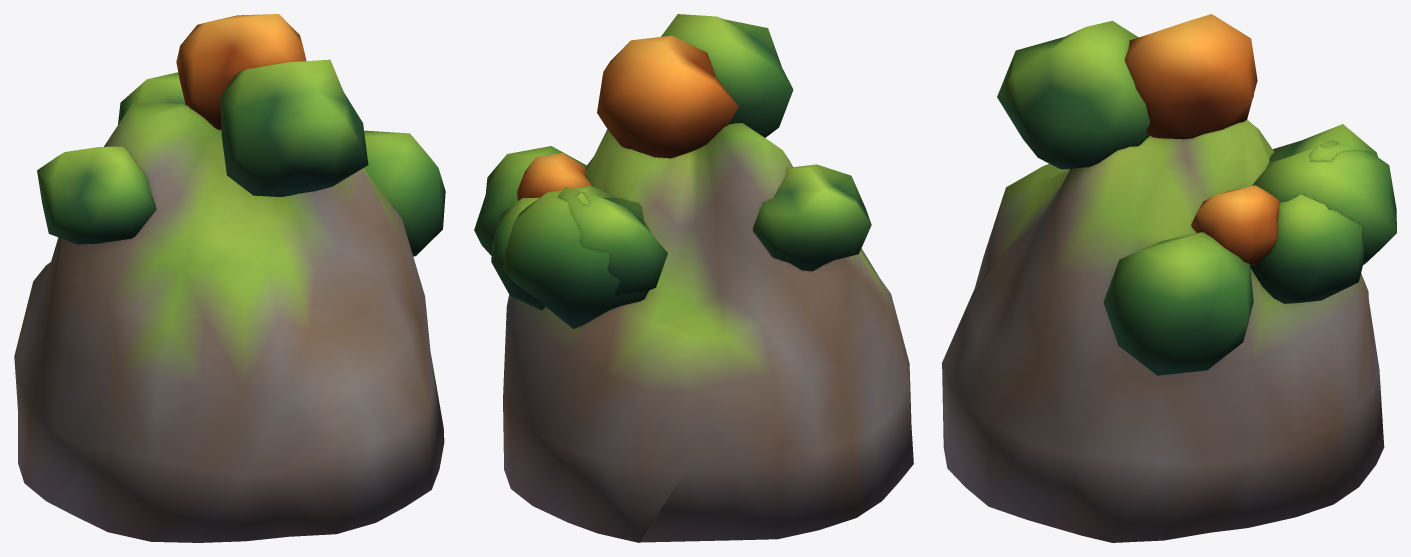
The model's file is mountain_a.glb.
3 renders of one model, left to right at view 1: azimuth 30°, elevation 25°; view 2: azimuth 150°, elevation 25°; view 3: azimuth 270°, elevation 25°, orthographic. The views are drawn at different scales.
Parts seen in each view (by area): view 1: mountain_a; view 2: mountain_a; view 3: mountain_a.
Part boxes in pixels (box(x1,y1,x2,y2)): mountain_a: box(14, 14, 445, 542); mountain_a: box(474, 14, 913, 542); mountain_a: box(942, 14, 1396, 542).
Bounding box in the file's own units: 2.01 × 2.05 × 1.92.
Materials: 1 (1 with a texture image).
